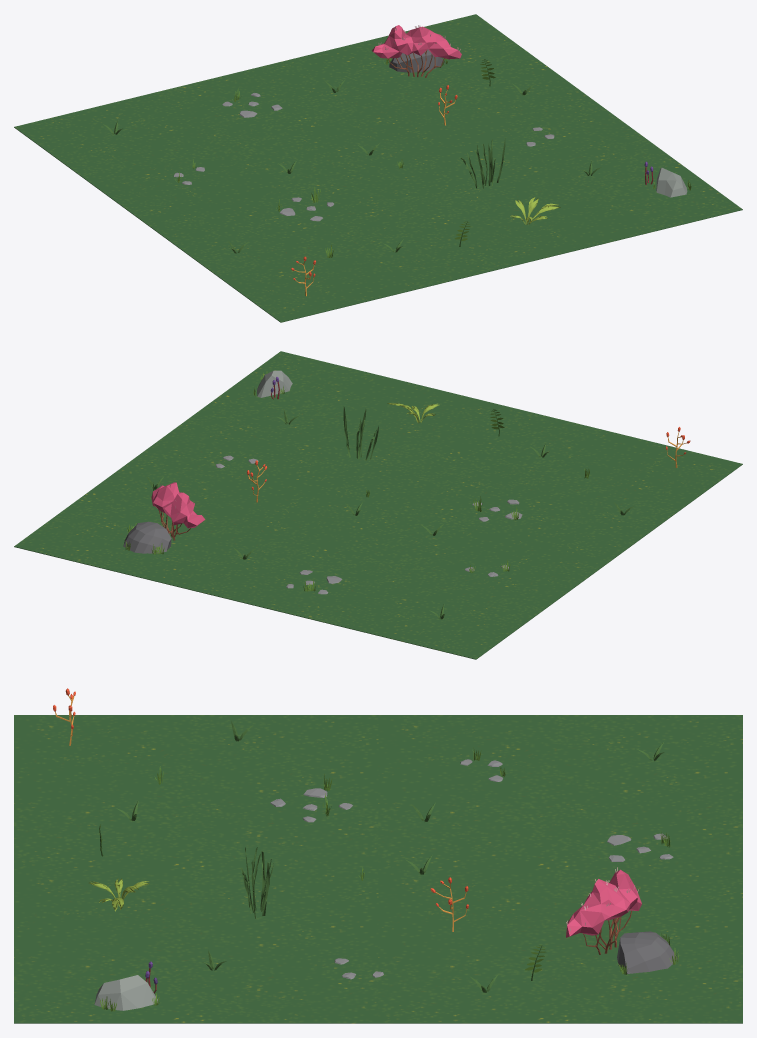
The picture shows the model from 3 angles, top to bottom: view 1: azimuth 30°, elevation 25°; view 2: azimuth 150°, elevation 25°; view 3: azimuth 270°, elevation 25°; orthographic projection. The views are drawn at different scales.
Parts seen in each view (by area): view 1: EP_10; view 2: EP_10; view 3: EP_10.
Part boxes in pixels (bbox=[...]): EP_10: bbox=[14, 14, 742, 322]; EP_10: bbox=[14, 351, 742, 659]; EP_10: bbox=[14, 688, 742, 1023].
Size of what is drawn, in the model's own units: 16 by 1.95 by 16.
Materials: 1 (1 with a texture image).
